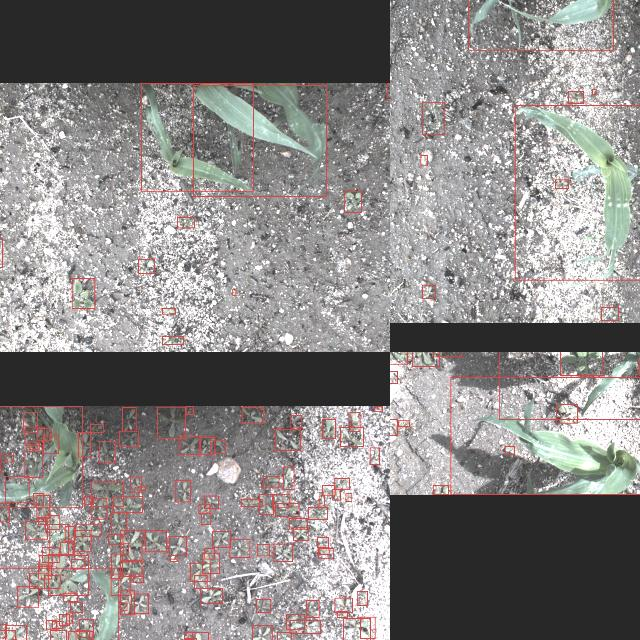crop: (450, 377, 640, 495), (514, 106, 640, 280), (192, 84, 326, 196), (140, 83, 252, 191), (0, 567, 117, 640), (0, 406, 81, 507), (467, 0, 612, 50)
weed: (48, 555, 88, 595), (560, 352, 602, 375), (157, 406, 185, 438), (91, 482, 123, 506), (421, 102, 443, 134), (72, 279, 95, 309), (120, 530, 142, 560), (4, 476, 28, 502), (342, 618, 370, 640), (48, 524, 68, 554), (274, 428, 300, 449), (22, 451, 42, 477), (144, 530, 166, 552), (112, 496, 142, 512), (340, 426, 362, 446), (110, 574, 130, 596), (16, 587, 38, 607), (289, 620, 319, 634), (411, 352, 438, 367), (190, 562, 210, 582), (24, 426, 44, 446), (556, 404, 576, 424), (25, 521, 47, 539), (229, 539, 249, 557), (180, 436, 200, 454), (168, 536, 186, 556), (130, 594, 148, 614), (241, 407, 263, 423), (200, 588, 222, 604), (110, 512, 126, 534), (74, 530, 90, 552), (344, 192, 361, 212), (174, 481, 190, 502), (120, 591, 134, 615), (121, 407, 135, 431), (202, 553, 218, 573), (98, 442, 114, 462), (90, 498, 106, 518), (28, 572, 48, 588), (4, 625, 25, 640), (360, 617, 374, 639), (120, 562, 142, 576), (119, 430, 138, 446), (251, 625, 271, 640), (286, 614, 304, 630), (274, 544, 292, 560), (274, 504, 298, 516), (212, 531, 230, 547), (110, 554, 122, 578), (78, 432, 90, 456), (76, 524, 100, 536), (42, 435, 58, 453), (36, 495, 49, 517), (321, 418, 335, 438), (259, 494, 273, 514), (23, 412, 37, 432), (282, 466, 294, 489), (138, 258, 154, 274), (334, 598, 352, 612), (272, 494, 290, 508), (200, 437, 214, 455), (78, 619, 92, 637), (307, 507, 327, 519), (42, 548, 58, 562), (176, 216, 194, 228), (600, 308, 618, 320), (306, 600, 318, 618), (349, 411, 359, 431), (288, 519, 308, 529), (45, 515, 59, 529), (292, 528, 308, 540), (262, 476, 278, 488), (68, 632, 92, 640), (43, 576, 59, 588), (38, 565, 51, 579), (240, 498, 262, 506), (0, 502, 9, 521), (568, 91, 582, 103), (422, 285, 434, 299), (256, 544, 270, 556), (204, 496, 218, 508), (256, 600, 270, 612), (210, 440, 224, 452), (38, 555, 52, 567), (162, 336, 182, 344), (369, 448, 379, 464), (130, 476, 140, 492), (50, 630, 66, 640), (59, 542, 72, 554), (38, 428, 51, 440), (0, 630, 15, 640), (194, 576, 206, 588), (357, 591, 367, 605), (318, 548, 332, 558), (334, 478, 348, 488), (290, 414, 300, 428), (108, 534, 122, 544), (70, 559, 84, 569), (75, 630, 89, 640), (64, 526, 74, 540), (191, 632, 208, 640), (432, 486, 448, 494), (276, 632, 291, 640), (316, 537, 328, 547), (322, 485, 334, 495), (200, 512, 210, 524), (198, 503, 210, 513), (70, 602, 82, 612), (59, 614, 69, 626), (33, 493, 43, 505), (554, 180, 568, 188), (89, 424, 103, 432), (63, 593, 77, 601), (390, 419, 397, 435), (204, 548, 214, 558), (45, 620, 55, 630), (390, 370, 397, 383), (161, 308, 175, 314), (419, 154, 426, 166), (0, 624, 6, 638), (318, 546, 328, 554), (332, 489, 340, 499), (132, 574, 142, 582), (29, 441, 39, 449), (504, 447, 514, 455), (122, 542, 128, 554), (66, 612, 72, 624), (37, 518, 49, 524), (386, 82, 390, 99), (185, 406, 193, 414), (84, 496, 92, 504), (183, 632, 191, 640), (5, 454, 13, 462), (337, 611, 347, 617), (318, 496, 324, 506), (51, 622, 61, 628), (398, 421, 408, 427), (345, 493, 351, 501), (120, 603, 126, 611), (373, 406, 381, 410), (137, 487, 145, 491), (638, 359, 640, 375), (170, 558, 177, 562), (184, 638, 196, 640), (232, 289, 235, 295), (591, 90, 595, 94)
